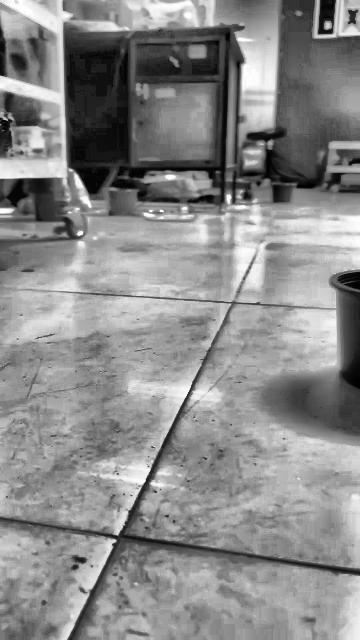pot: (329, 270, 360, 387)
